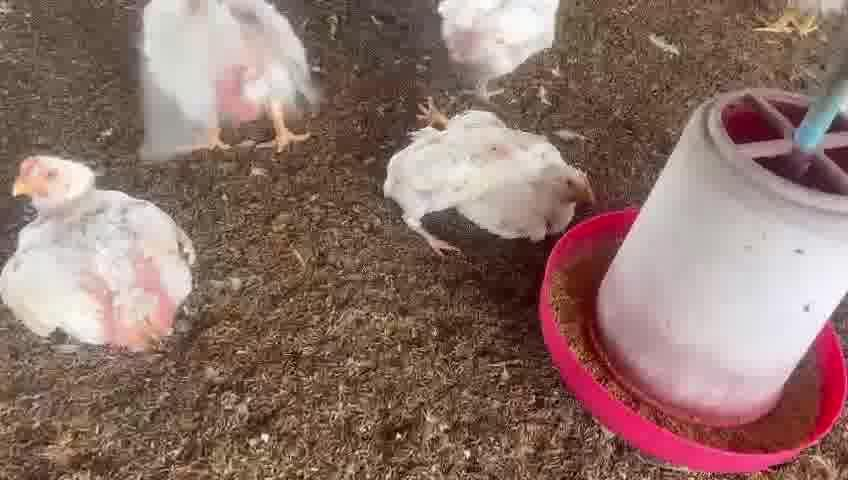AbNormal: (373, 94, 601, 260)
Normal: (4, 150, 196, 368), (128, 0, 319, 166), (414, 0, 583, 106)
